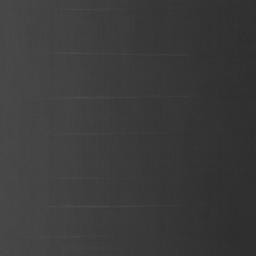Waist folding: (53, 204, 143, 209), (63, 95, 129, 100), (157, 53, 186, 57), (77, 132, 95, 136), (73, 10, 107, 12), (65, 51, 81, 55)
